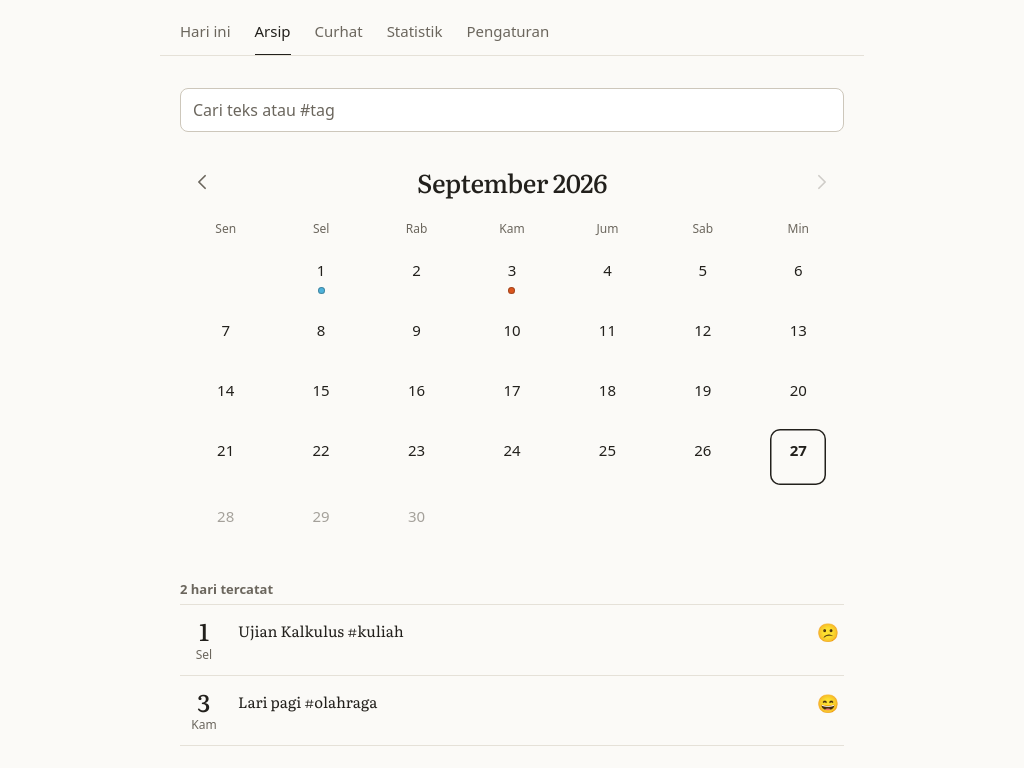
Test: search by #tag lists matching entries across months, newest first
Type "#kuliah" into the search field labelled "Cari" at (512, 110), box [180, 88, 844, 132]
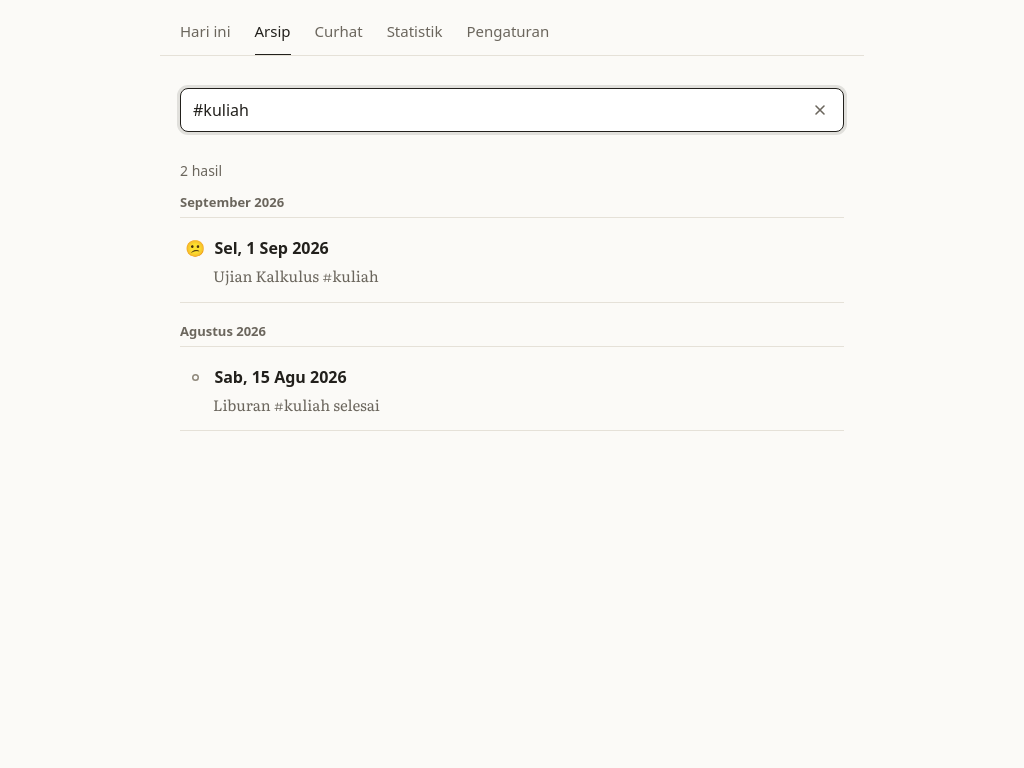
Check: the text "2 hasil" is shown, box [180, 161, 222, 180]
